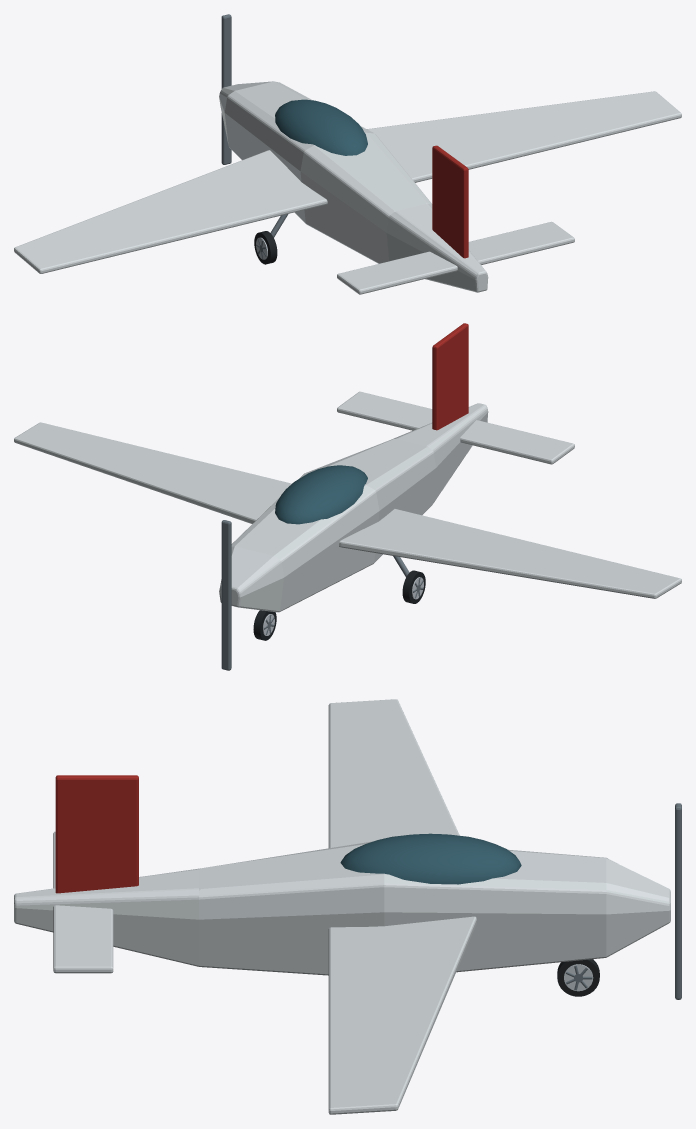
Rendered from Swift_Plane.fbx.
3 views of the same model, one above another, from view 1: azimuth 30°, elevation 25°; view 2: azimuth 150°, elevation 25°; view 3: azimuth 270°, elevation 25° (orthographic). The views are drawn at different scales.
Parts seen in each view (by area): view 1: Body.014, Rotor_Prop, Wheel_-1.2; view 2: Body.014, Rotor_Prop, Wheel_-1.2, Wheel_0; view 3: Body.014, Rotor_Prop, Wheel_0.
Part boxes in pixels (<box>): Body.014: <box>14,81,681,294</box>; Rotor_Prop: <box>221,14,231,164</box>; Wheel_-1.2: <box>254,231,277,264</box>; Body.014: <box>14,323,681,612</box>; Rotor_Prop: <box>221,520,231,670</box>; Wheel_-1.2: <box>402,570,425,603</box>; Wheel_0: <box>253,610,276,640</box>; Body.014: <box>14,699,670,1114</box>; Rotor_Prop: <box>675,803,681,999</box>; Wheel_0: <box>557,959,599,996</box>.
Size of the model in its own units: 10.4 by 2.65 by 7.22.
